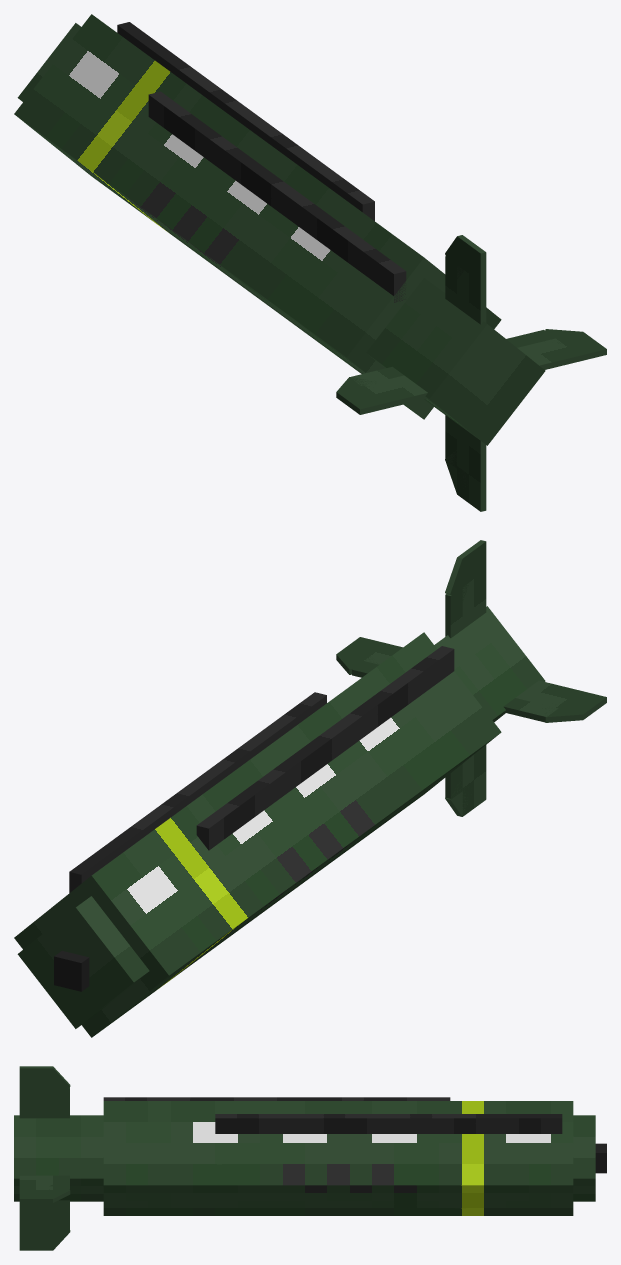
File: cbu87.gltf
The picture shows the model from 3 angles, top to bottom: view 1: azimuth 30°, elevation 25°; view 2: azimuth 150°, elevation 25°; view 3: azimuth 270°, elevation 25°; orthographic projection. The views are drawn at different scales.
Parts seen in each view (by area): view 1: cube (×8); view 2: cube (×10); view 3: cube (×9).
Boxes of the visible parts, x1,y1,x2,y2 form: cube (×8): [14, 14, 606, 511]; cube (×10): [14, 540, 606, 1037]; cube (×9): [14, 1066, 606, 1250].
Size of the model in its own units: 0.5625 by 0.5625 by 1.66.
1 material, 1 textured.
